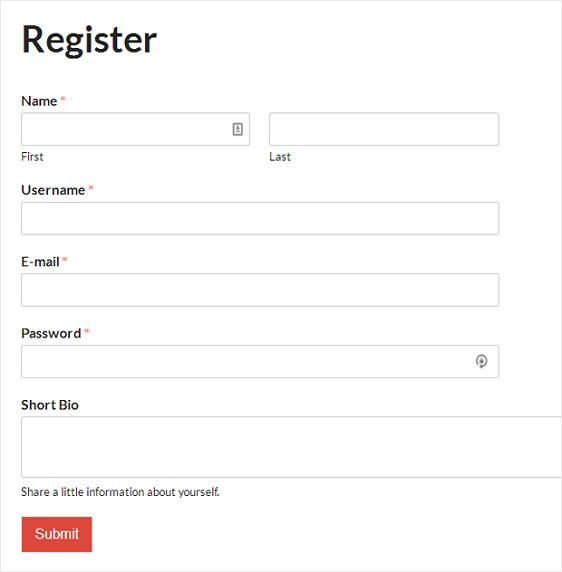button: (16, 510, 104, 556)
textbox: (16, 413, 560, 483), (16, 340, 507, 391), (16, 108, 253, 152)
